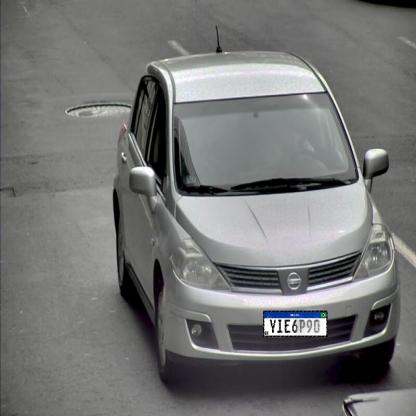PlacaM: (263, 311, 328, 337)
